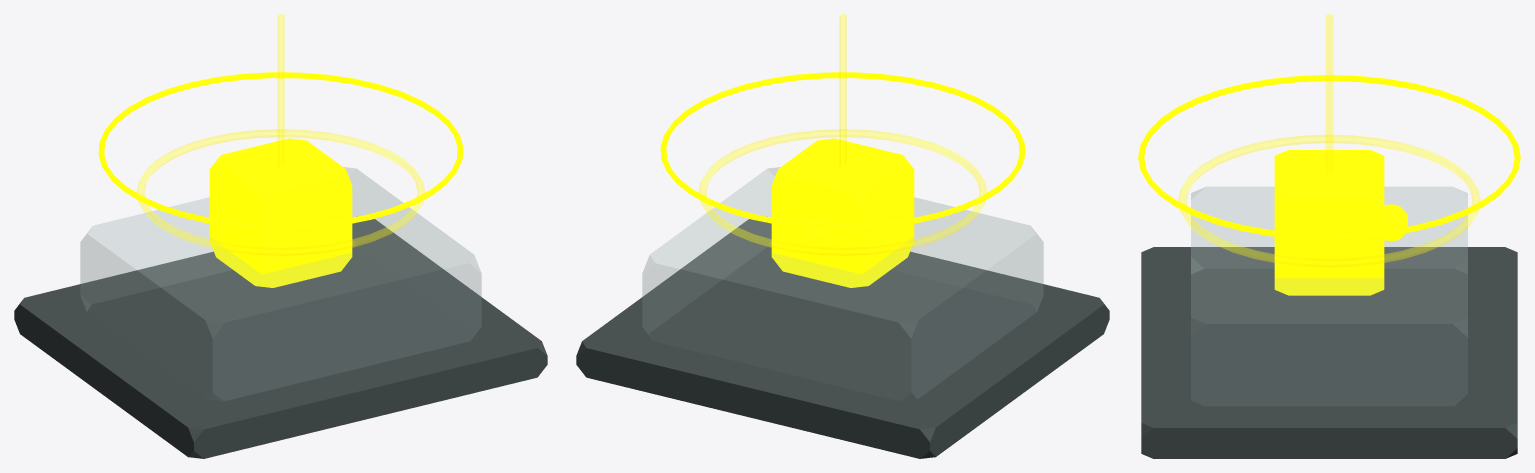
Rendered from risk-hotspot.glb.
3 renders of one model, left to right at view 1: azimuth 30°, elevation 25°; view 2: azimuth 150°, elevation 25°; view 3: azimuth 270°, elevation 25°, orthographic. The views are drawn at different scales.
Parts seen in each view (by area): view 1: Risk_Context_Base, Risk_Context_Layer, Risk_Condition, Risk_Field_B, Risk_Field_A, Risk_Axis; view 2: Risk_Context_Base, Risk_Context_Layer, Risk_Condition, Risk_Field_B, Risk_Field_A, Risk_Axis, Risk_Centre; view 3: Risk_Context_Base, Risk_Context_Layer, Risk_Condition, Risk_Field_B, Risk_Field_A, Risk_Axis, Risk_Centre.
Part boxes in pixels (box(x1,y1,x2,y2)): Risk_Context_Base: box(14, 219, 547, 458); Risk_Context_Layer: box(80, 167, 481, 400); Risk_Condition: box(209, 138, 352, 287); Risk_Field_B: box(98, 72, 463, 229); Risk_Field_A: box(136, 129, 425, 255); Risk_Axis: box(277, 14, 284, 166); Risk_Context_Base: box(576, 219, 1109, 458); Risk_Context_Layer: box(642, 167, 1043, 400); Risk_Condition: box(771, 138, 914, 287); Risk_Field_B: box(660, 72, 1025, 229); Risk_Field_A: box(698, 129, 987, 255); Risk_Axis: box(839, 14, 846, 166); Risk_Centre: box(796, 217, 829, 252); Risk_Context_Base: box(1141, 247, 1517, 458); Risk_Context_Layer: box(1191, 187, 1467, 405); Risk_Condition: box(1274, 150, 1384, 295); Risk_Field_B: box(1138, 75, 1520, 240); Risk_Field_A: box(1178, 135, 1480, 267); Risk_Axis: box(1326, 14, 1332, 174); Risk_Centre: box(1384, 204, 1407, 241).
Size of the model in its own units: 2.5 by 2.28 by 2.24.
